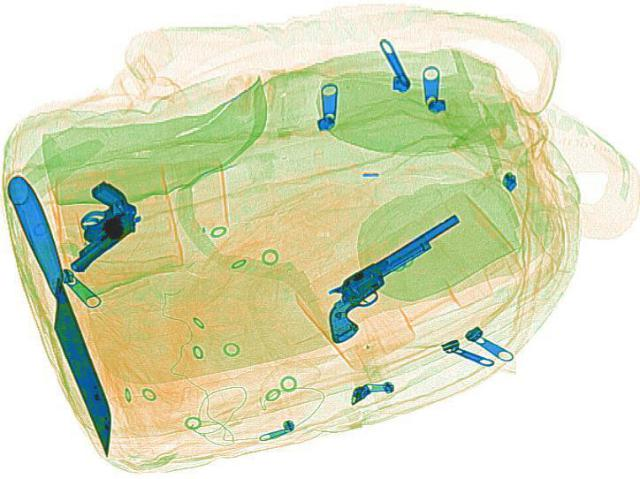Gun: (289, 213, 499, 344), (26, 178, 158, 273)
Knife: (0, 173, 126, 456)
